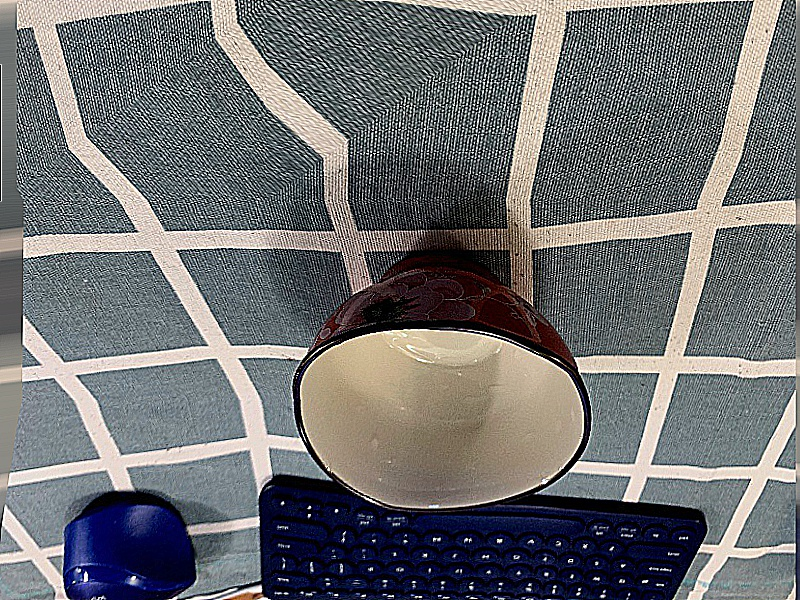bowl_small: (259, 238, 591, 522)
